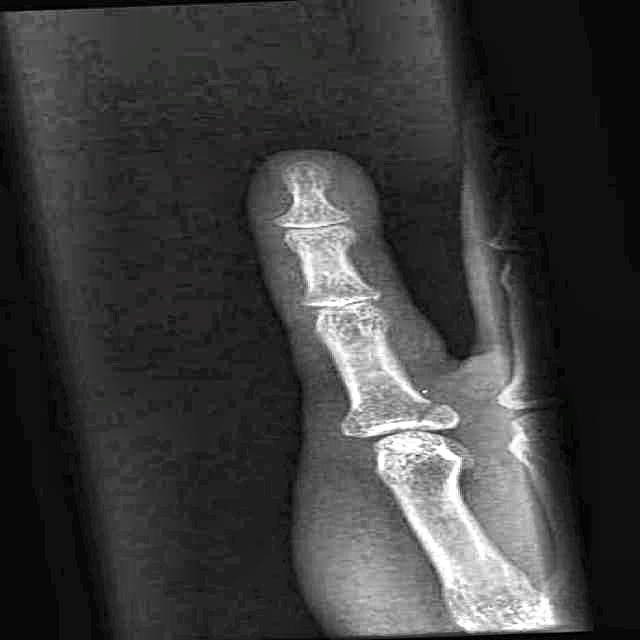Greenstick: (366, 391, 481, 453)
